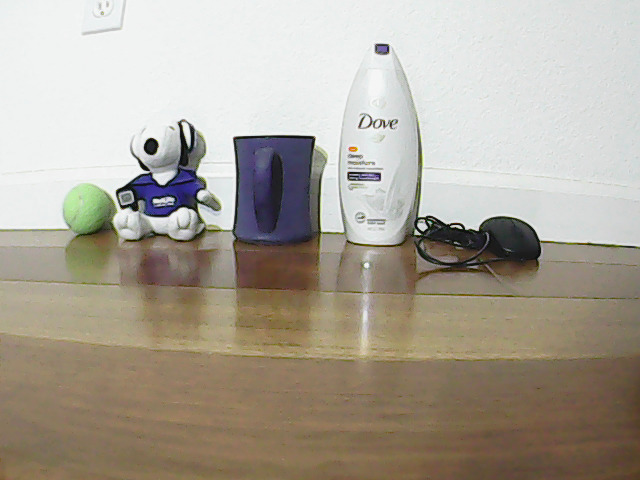ball: (48, 165, 116, 236)
mouse: (477, 211, 550, 266)
mug: (239, 132, 324, 246)
snoopy: (130, 108, 214, 247)
soap: (339, 36, 424, 246)
